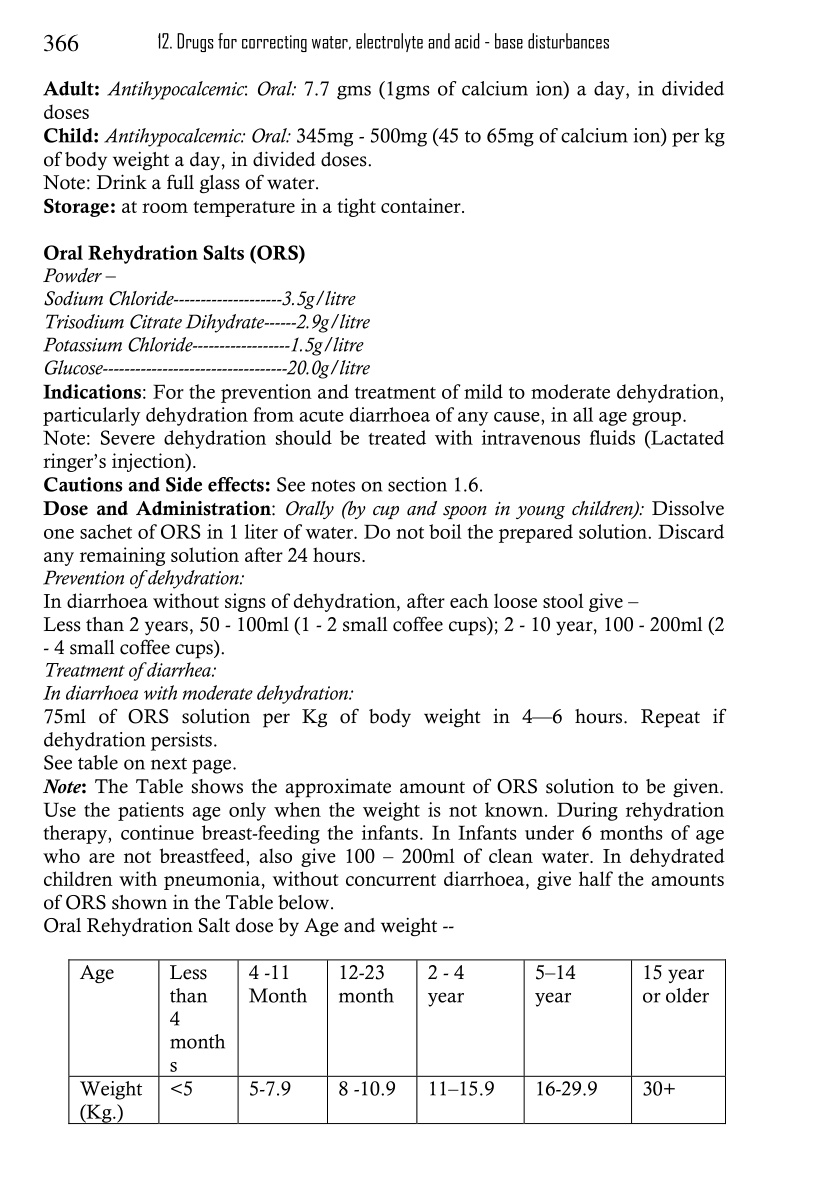full_lined: (67, 958, 727, 1125)
